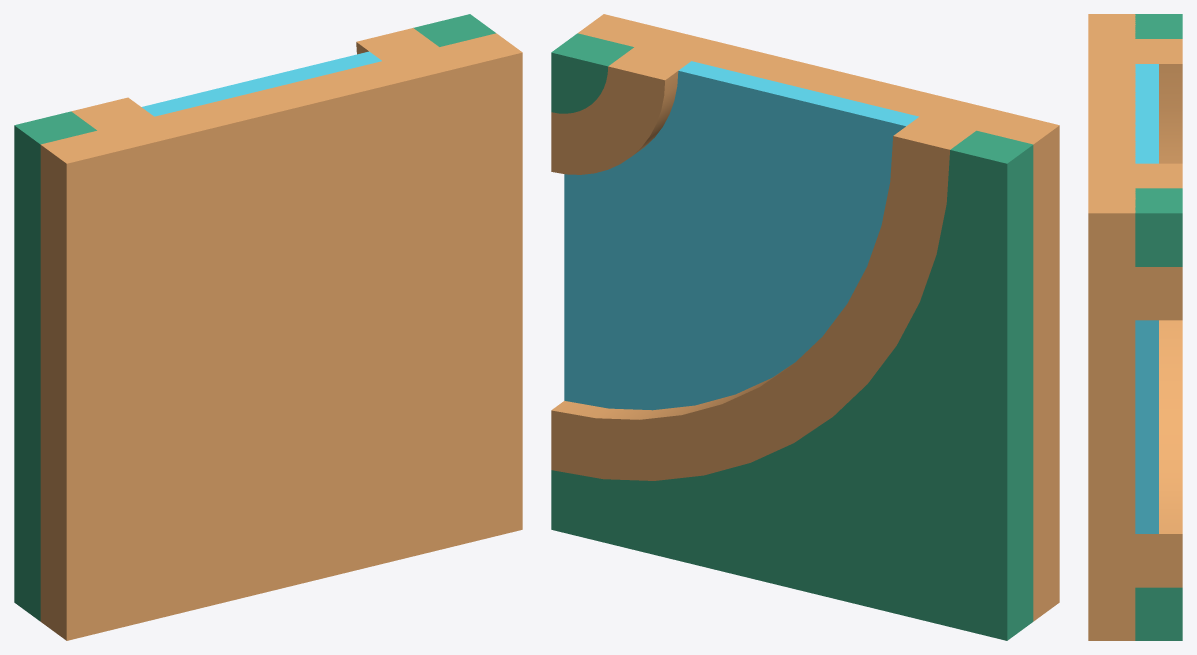
File: tile_riverCorner.obj
3 views of the same model, side by side, from view 1: azimuth 30°, elevation 25°; view 2: azimuth 150°, elevation 25°; view 3: azimuth 270°, elevation 25° (orthographic). The views are drawn at different scales.
Visible parts, largest first — view 1: tile_riverCorner.001; view 2: tile_riverCorner.001; view 3: tile_riverCorner.001.
Part boxes in pixels (x1,y1,x2,y2): tile_riverCorner.001: (14, 14, 522, 640); tile_riverCorner.001: (551, 14, 1059, 640); tile_riverCorner.001: (1088, 14, 1182, 640).
Bounding box in the file's own units: 1 × 1 × 0.2.
